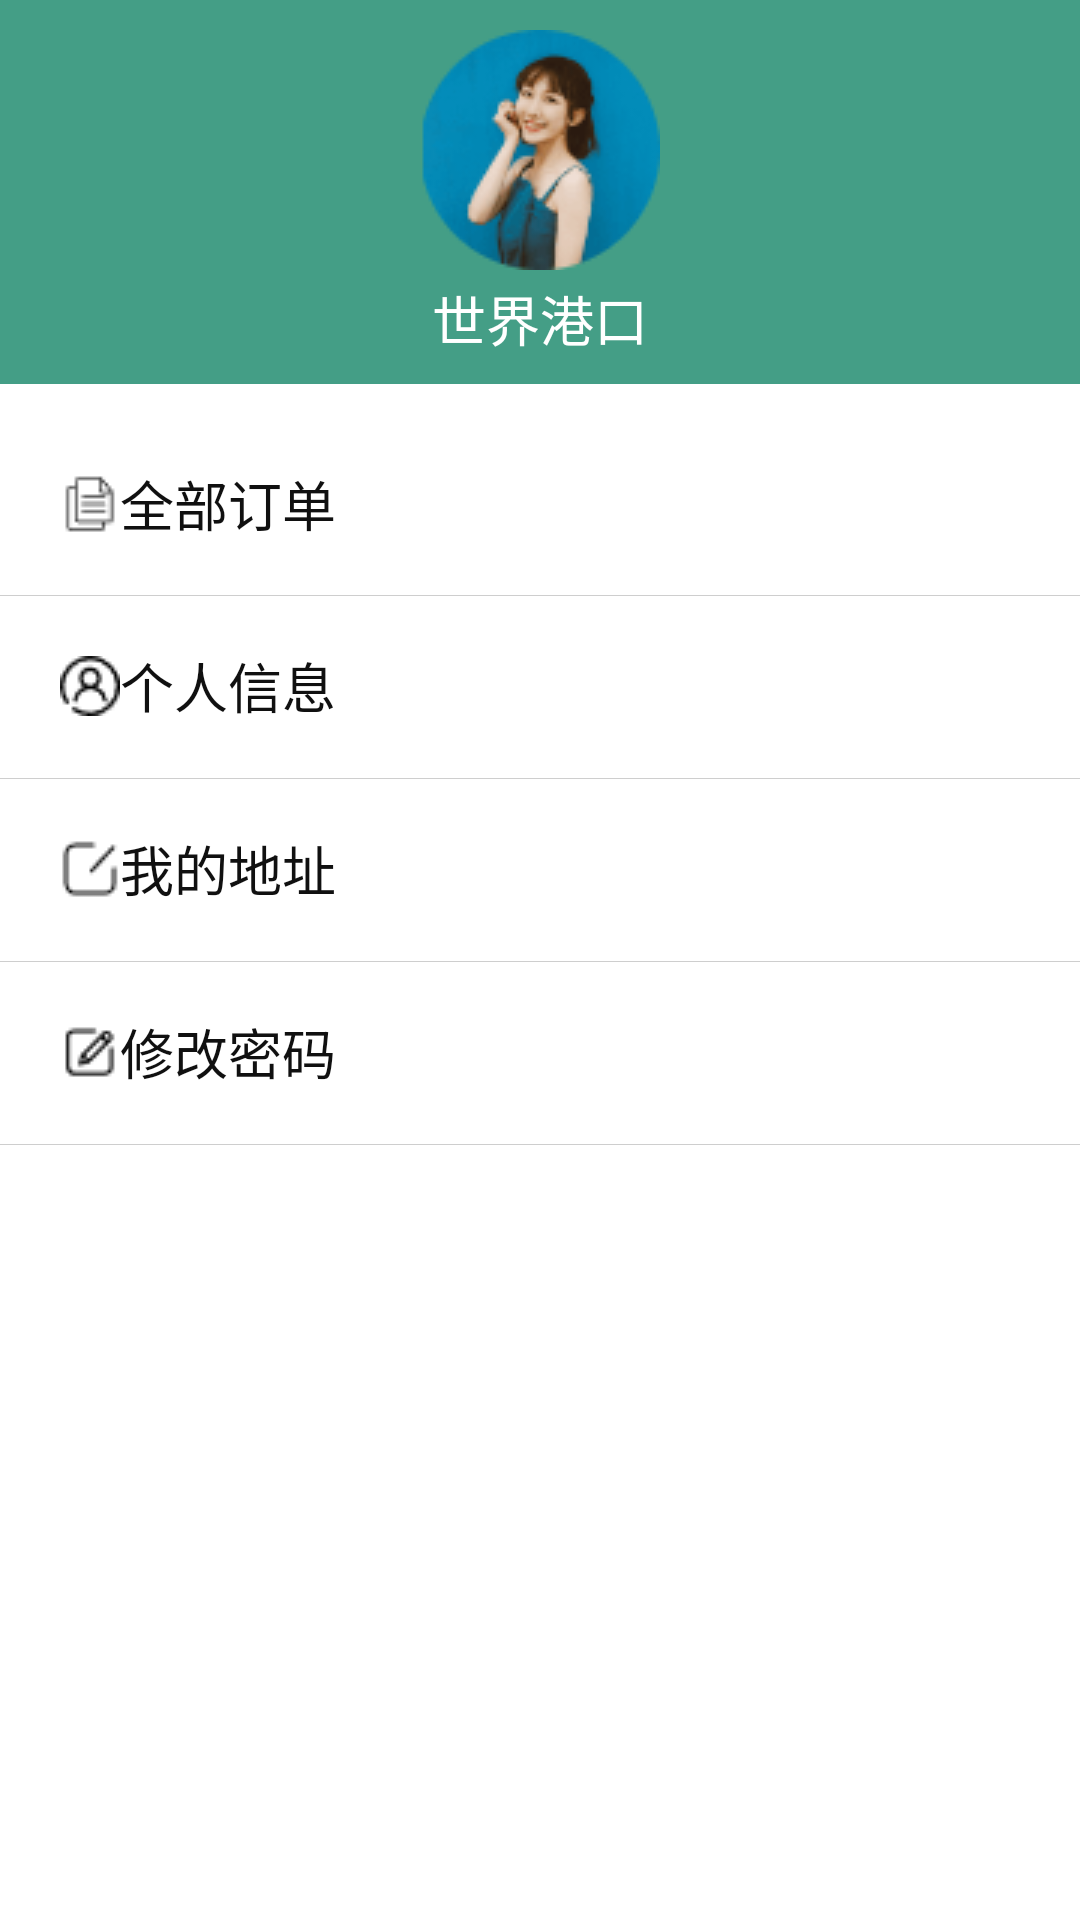

Icons on this 1080*1920 Android screen, each with its box as detection(x1, y1, x2, y2):
dingdan: detection(65, 476, 115, 532)
touxiang: detection(423, 30, 660, 270)
xinxi: detection(60, 656, 120, 716)
